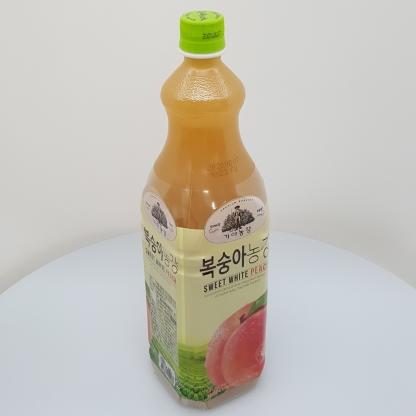-------1-5L: (140, 10, 270, 410)
